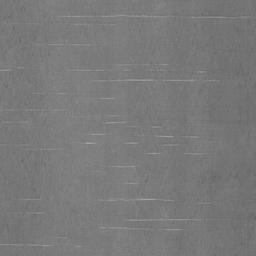Waist folding: (20, 62, 220, 233), (33, 11, 256, 47), (0, 65, 67, 124), (21, 147, 56, 167), (0, 242, 81, 250), (202, 48, 233, 55), (220, 244, 256, 247)
